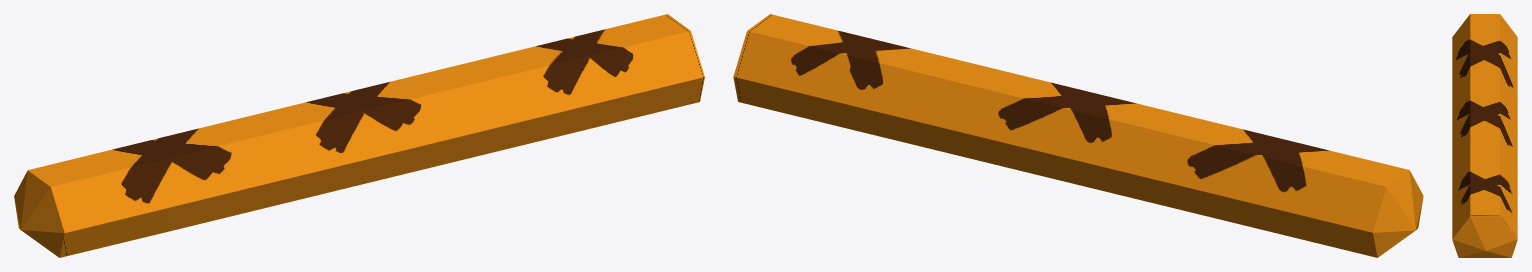
File: yoot-round-7.glb
The picture shows the model from 3 angles, left to right: view 1: azimuth 30°, elevation 25°; view 2: azimuth 150°, elevation 25°; view 3: azimuth 270°, elevation 25°; orthographic projection. The views are drawn at different scales.
Visible parts, largest first — view 1: Cylinder.009; view 2: Cylinder.009; view 3: Cylinder.009.
Boxes of the visible parts, x1,y1,x2,y2 form: Cylinder.009: (14, 14, 704, 257); Cylinder.009: (733, 14, 1423, 257); Cylinder.009: (1452, 14, 1517, 257).
Size of the model in its own units: 10.36 by 0.9511 by 1.35.
1 material, 1 textured.
